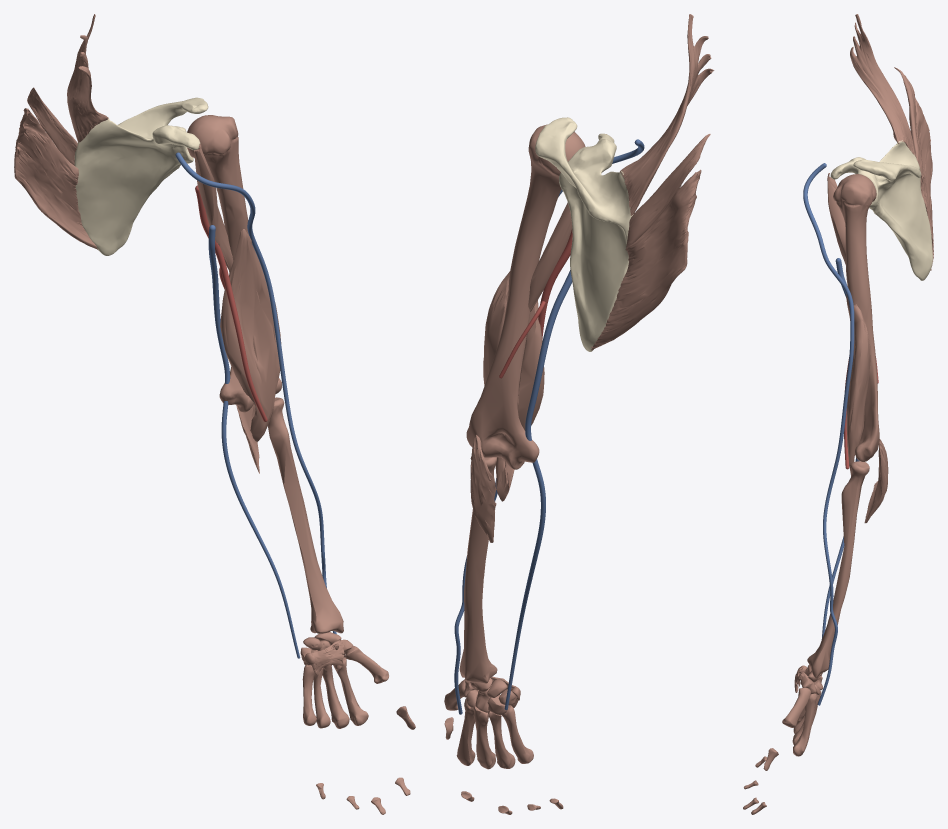
Rendered from left-arm-0.glb.
3 views of the same model, side by side, from view 1: azimuth 30°, elevation 25°; view 2: azimuth 150°, elevation 25°; view 3: azimuth 270°, elevation 25° (orthographic). The views are drawn at different scales.
Parts seen in each view (by area): view 1: FJ3279, FJ1486M, FJ1536M, FJ3262, FJ3277, FJ2220, FJ2218, FJ1532M, FJ1488M, FJ2219, FJ1537M, FJ3243 (+1 smaller); view 2: FJ3279, FJ3262, FJ1536M, FJ1486M, FJ3277, FJ1532M, FJ2218, FJ1537M, FJ1485M, FJ1488M, FJ2220, FJ3246 (+4 smaller); view 3: FJ3279, FJ3262, FJ3277, FJ2220, FJ1532M, FJ1486M, FJ1536M, FJ1485M, FJ1488M, FJ1537M, FJ3243, FJ3240 (+1 smaller).
Part boxes in pixels (x1=…): FJ3279: x1=74, y1=97, x2=208, y2=255; FJ1486M: x1=220, y1=229, x2=281, y2=441; FJ1536M: x1=14, y1=108, x2=97, y2=249; FJ3262: x1=187, y1=115, x2=281, y2=412; FJ3277: x1=268, y1=397, x2=343, y2=633; FJ2220: x1=175, y1=152, x2=336, y2=634; FJ2218: x1=208, y1=225, x2=300, y2=658; FJ1532M: x1=67, y1=14, x2=108, y2=142; FJ1488M: x1=194, y1=143, x2=233, y2=271; FJ2219: x1=195, y1=185, x2=267, y2=421; FJ1537M: x1=27, y1=87, x2=77, y2=165; FJ3243: x1=333, y1=657, x2=368, y2=725; FJ3279: x1=535, y1=117, x2=633, y2=351; FJ3262: x1=466, y1=124, x2=585, y2=469; FJ1536M: x1=591, y1=169, x2=701, y2=350; FJ1486M: x1=483, y1=271, x2=544, y2=501; FJ3277: x1=459, y1=456, x2=497, y2=683; FJ1532M: x1=619, y1=14, x2=714, y2=215; FJ2218: x1=504, y1=270, x2=572, y2=710; FJ1537M: x1=625, y1=134, x2=710, y2=250; FJ1485M: x1=470, y1=435, x2=496, y2=542; FJ1488M: x1=528, y1=134, x2=606, y2=311; FJ2220: x1=454, y1=139, x2=644, y2=714; FJ3246: x1=473, y1=706, x2=495, y2=769; FJ3279: x1=830, y1=140, x2=932, y2=280; FJ3262: x1=833, y1=174, x2=879, y2=461; FJ3277: x1=807, y1=461, x2=869, y2=678; FJ2220: x1=803, y1=163, x2=854, y2=705; FJ1532M: x1=850, y1=14, x2=916, y2=157; FJ1486M: x1=846, y1=294, x2=870, y2=476; FJ1536M: x1=915, y1=98, x2=933, y2=270; FJ1485M: x1=864, y1=439, x2=888, y2=523; FJ1488M: x1=827, y1=173, x2=845, y2=264; FJ1537M: x1=894, y1=67, x2=923, y2=182; FJ3243: x1=793, y1=693, x2=816, y2=756; FJ3240: x1=782, y1=687, x2=810, y2=727.
Size of the model in its own units: 0.3249 by 0.8152 by 0.2012.
